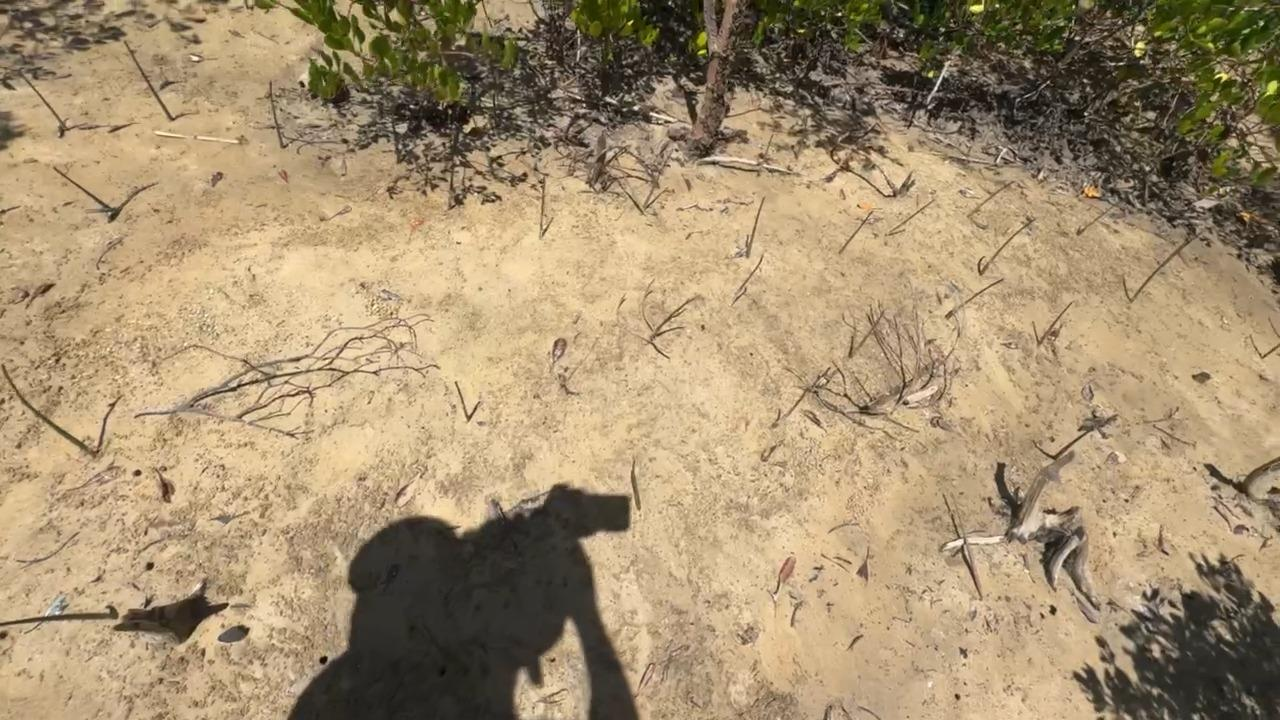Tree: (0, 359, 98, 457), (1122, 239, 1194, 302), (949, 485, 987, 598), (124, 37, 174, 121), (768, 367, 831, 430), (977, 218, 1035, 276), (1052, 413, 1121, 460), (53, 163, 115, 215), (19, 72, 70, 133), (946, 278, 1004, 322), (649, 294, 700, 340), (883, 196, 937, 237), (1076, 195, 1127, 235), (848, 308, 886, 358), (967, 178, 1016, 216), (837, 209, 877, 255), (1039, 301, 1077, 349), (0, 611, 119, 626), (734, 252, 763, 297), (743, 195, 764, 257), (268, 78, 286, 148), (452, 381, 472, 422), (645, 187, 671, 211), (537, 174, 546, 239), (1258, 342, 1279, 360), (765, 130, 775, 160)
